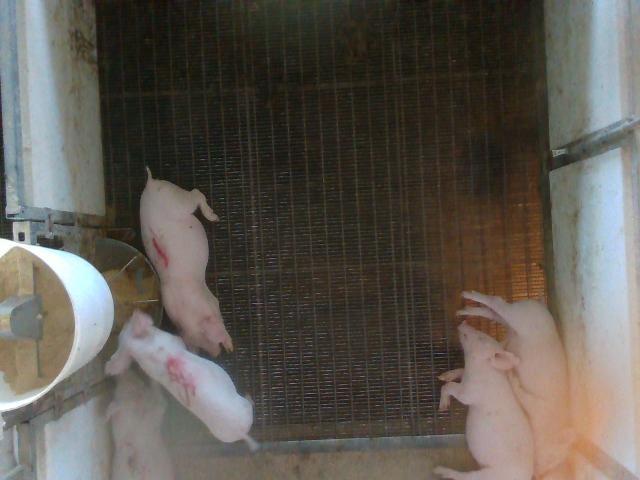pig-1: (140, 168, 232, 356)
pig-3: (106, 365, 174, 478)
pig-5: (106, 311, 258, 450)
